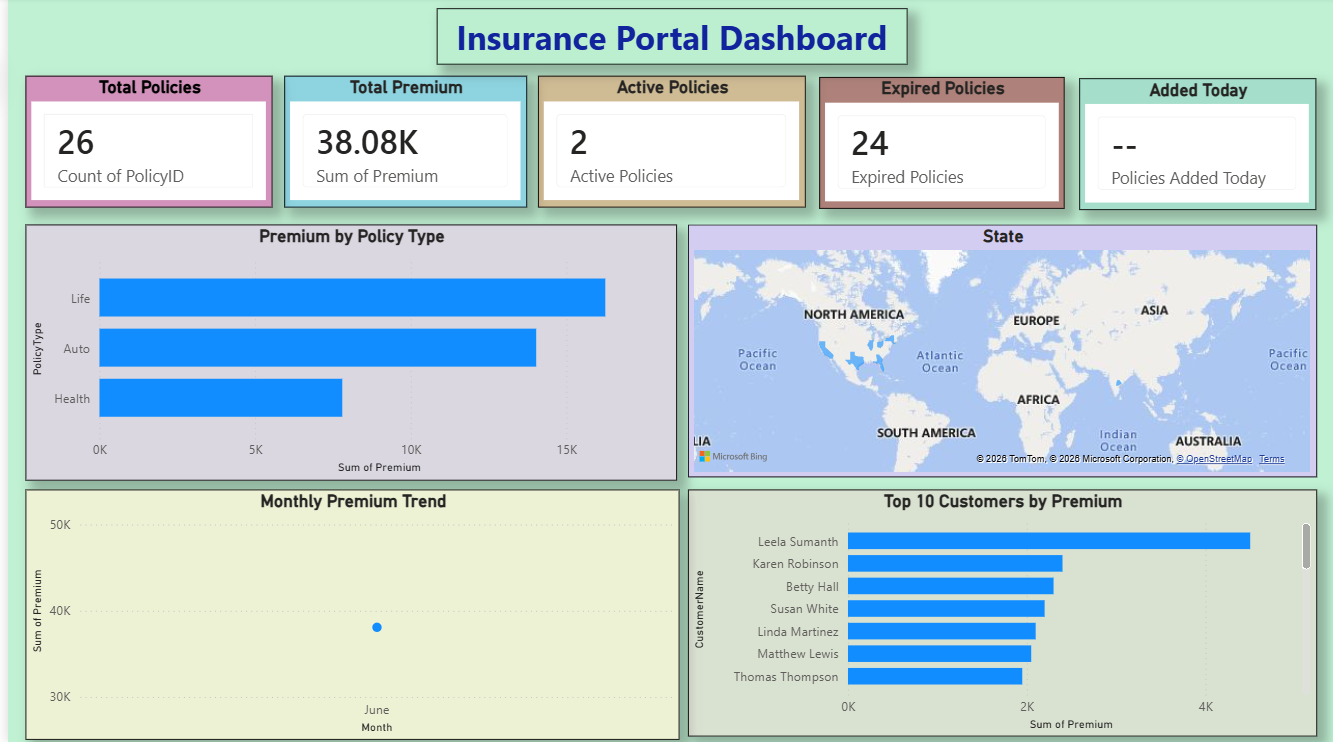

The dashboard page shown, as its layout file describes it:
{"tool":"powerbi","page":{"name":"Page 1","canvas":[1280,720],"ordinal":0},"visuals":[{"type":"cardVisual","title":"Total Policies","fields":{"Data":["CountNonNull(Policies.PolicyID)"]},"box":[17.1,75.7,238.6,127.1],"z":0},{"type":"cardVisual","title":"Total Premium","fields":{"Data":["Sum(Policies.Premium)"]},"box":[267.1,75.7,234.3,127.1],"z":1000},{"type":"cardVisual","title":"Active Policies","fields":{"Data":["Policies.Active Policies"]},"box":[511.4,75.7,258.6,127.1],"z":2000},{"type":"cardVisual","title":"Expired Policies","fields":{"Data":["Policies.Expired Policies"]},"box":[782.9,77.1,237.1,127.1],"z":3000},{"type":"cardVisual","title":"Added Today","fields":{"Data":["Policies.Policies Added Today"]},"box":[1034.3,78.6,228.6,127.1],"z":4000},{"type":"clusteredBarChart","title":"Premium by Policy Type","fields":{"Y":["Sum(Policies.Premium)"],"Category":["Policies.PolicyType"]},"box":[17.1,220,628.6,247.1],"z":5000},{"type":"filledMap","fields":{"Category":["Policies.State"]},"box":[655.7,220,607.1,244.3],"z":6000},{"type":"lineChart","title":"Monthly Premium Trend","fields":{"Category":["Policies.CreatedDate.Variation.Date Hierarchy.Month"],"Y":["Sum(Policies.Premium)"]},"box":[17.1,475.7,631.4,241.4],"z":7000},{"type":"clusteredBarChart","title":"Top 10 Customers by Premium","fields":{"Category":["Policies.CustomerName"],"Y":["Sum(Policies.Premium)"]},"box":[655.7,475.7,607.1,238.6],"z":7001},{"type":"textbox","box":[414.3,11.4,454.3,54.3],"z":7002}]}

Visuals, with their boxes in screenshot pixels (x1, y1, x2, y2), scaled from the page's 1280x720 canvas onto the 1333x742 screenshot:
"Total Policies" cardVisual: select_region(18, 78, 266, 209)
"Total Premium" cardVisual: select_region(278, 78, 522, 209)
"Active Policies" cardVisual: select_region(533, 78, 802, 209)
"Expired Policies" cardVisual: select_region(815, 79, 1062, 210)
"Added Today" cardVisual: select_region(1077, 81, 1315, 212)
"Premium by Policy Type" clusteredBarChart: select_region(18, 227, 672, 481)
filledMap - Policies.State: select_region(683, 227, 1315, 478)
"Monthly Premium Trend" lineChart: select_region(18, 490, 675, 739)
"Top 10 Customers by Premium" clusteredBarChart: select_region(683, 490, 1315, 736)
textbox: select_region(431, 12, 905, 68)
